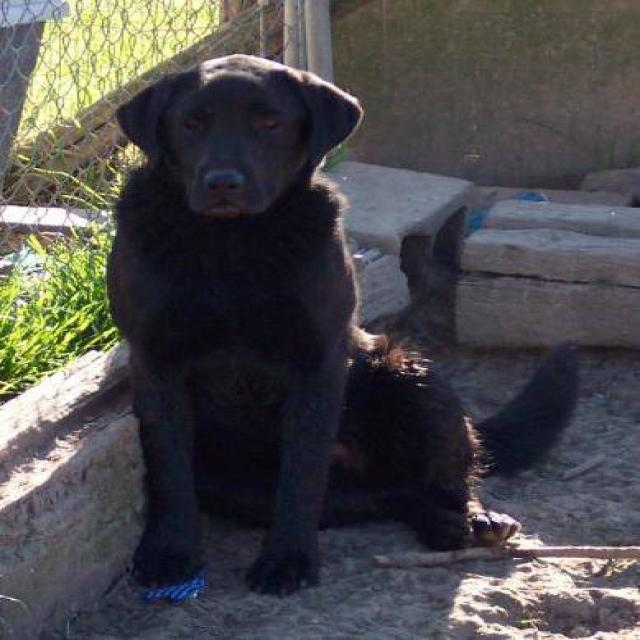relax: (111, 40, 584, 609)
